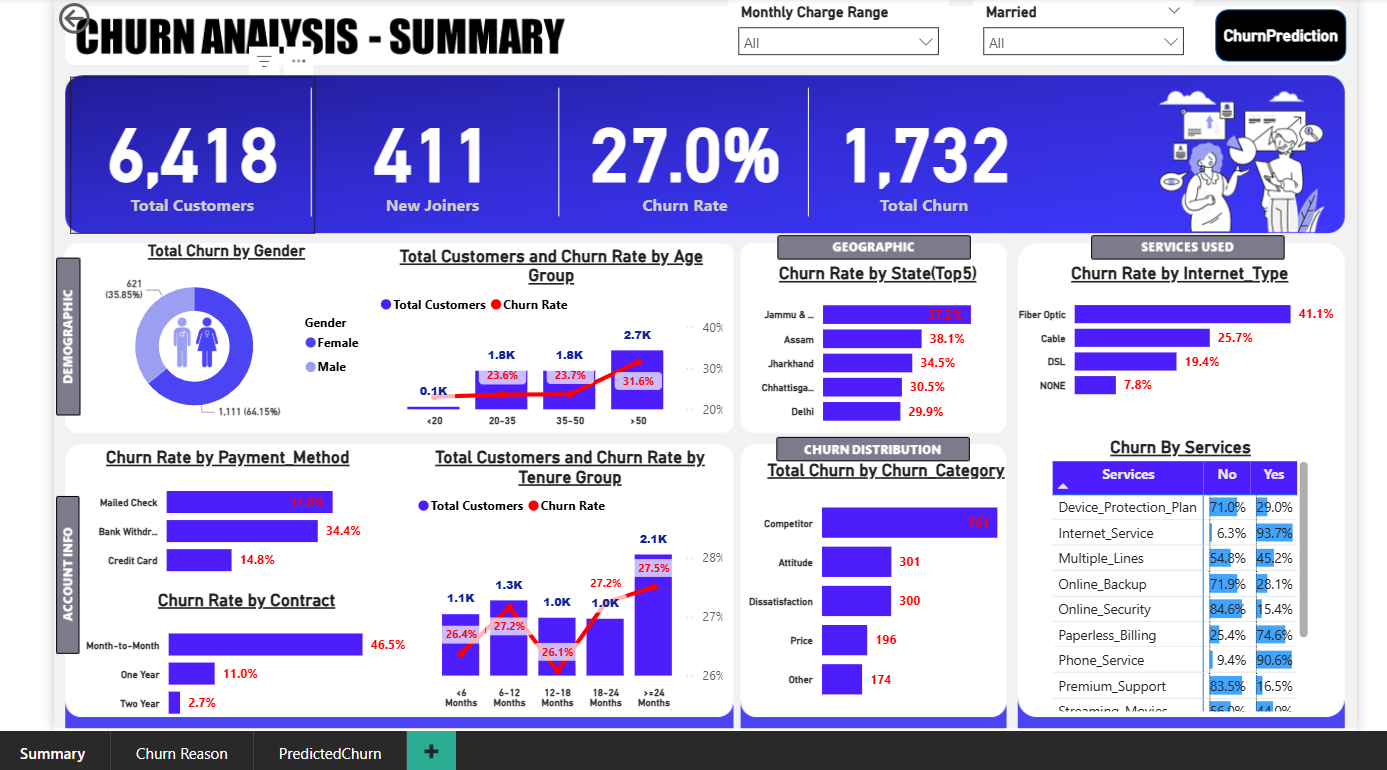

The page's visual inventory and layout, read from the dashboard file:
{"tool":"powerbi","page":{"name":"Summary","canvas":[1280,720],"ordinal":0},"visuals":[{"type":"image","box":[100.2,306,78.2,63.1],"z":0},{"type":"actionButton","box":[0,0,100,40],"z":1000},{"type":"card","fields":{"Values":["TBL_Measures.Total Customers"]},"box":[16.5,76.8,240.1,155.1],"z":2000},{"type":"card","fields":{"Values":["TBL_Measures.Total Churn"]},"box":[741,76.8,226.4,155.1],"z":3000},{"type":"card","fields":{"Values":["TBL_Measures.New Joiners"]},"box":[245.6,76.8,252.5,155.1],"z":4000},{"type":"card","fields":{"Values":["TBL_Measures.Churn Rate"]},"box":[498.1,76.8,242.9,155.1],"z":5000},{"type":"lineStackedColumnComboChart","fields":{"Y":["TBL_Measures.Total Customers"],"Y2":["TBL_Measures.Churn Rate"],"Category":["MappingAgeGroup.Age Group"]},"box":[315.6,242.9,345.8,188],"z":6000},{"type":"clusteredBarChart","fields":{"Category":["prod_Churn.Payment_Method"],"Y":["TBL_Measures.Churn Rate"]},"box":[26.1,440.5,289.5,140],"z":7000},{"type":"clusteredBarChart","fields":{"Category":["prod_Churn.Contract"],"Y":["TBL_Measures.Churn Rate"]},"box":[26.1,580.4,326.6,140],"z":8000},{"type":"lineStackedColumnComboChart","fields":{"Y":["TBL_Measures.Total Customers"],"Y2":["TBL_Measures.Churn Rate"],"Category":["MappingTenureGroup.Tenure Group"]},"box":[352.7,440.5,308.7,264.8],"z":9000},{"type":"clusteredBarChart","title":"Churn Rate by State(Top5)","fields":{"Category":["prod_Churn.State"],"Y":["TBL_Measures.Churn Rate"]},"box":[676.5,260.7,264.8,170.2],"z":10000},{"type":"clusteredBarChart","fields":{"Category":["prod_Churn.Churn_Category"],"Y":["TBL_Measures.Total Churn"]},"box":[676.5,452.8,281.3,252.5],"z":11000},{"type":"clusteredBarChart","fields":{"Category":["prod_Churn.Internet_Type"],"Y":["TBL_Measures.Churn Rate"]},"box":[941.3,260.7,328,144.1],"z":12000},{"type":"pivotTable","title":"Churn By Services","fields":{"Rows":["prod_Services.Services"],"Values":["Sum(prod_Services.Churn Status)"],"Columns":["prod_Services.Status"]},"box":[975.6,430.9,260.7,274.4],"z":13000},{"type":"slicer","fields":{"Values":["prod_Churn.Monthly Charge Range"]},"box":[661.4,0,216.8,63.1],"z":14000},{"type":"slicer","fields":{"Values":["prod_Churn.Married"]},"box":[901.5,0,216.8,63.1],"z":15000},{"type":"donutChart","fields":{"Category":["prod_Churn.Gender"],"Y":["TBL_Measures.Total Churn"]},"box":[24.7,238.8,289.5,188],"z":16000},{"type":"shape","box":[1139.9,11,128.8,51.5],"z":17000}]}

Visuals, with their boxes on the page's 1280x720 design canvas (x1, y1, x2, y2). These are canvas units, not pixel positions in the 1387x770 screenshot, which may show the page scaled, cropped or inside an application window:
image: BBox(100, 306, 178, 369)
actionButton: BBox(0, 0, 100, 40)
card - TBL_Measures.Total Customers: BBox(16, 77, 257, 232)
card - TBL_Measures.Total Churn: BBox(741, 77, 967, 232)
card - TBL_Measures.New Joiners: BBox(246, 77, 498, 232)
card - TBL_Measures.Churn Rate: BBox(498, 77, 741, 232)
lineStackedColumnComboChart - TBL_Measures.Total Customers x TBL_Measures.Churn Rate: BBox(316, 243, 661, 431)
clusteredBarChart - prod_Churn.Payment_Method x TBL_Measures.Churn Rate: BBox(26, 440, 316, 580)
clusteredBarChart - prod_Churn.Contract x TBL_Measures.Churn Rate: BBox(26, 580, 353, 720)
lineStackedColumnComboChart - TBL_Measures.Total Customers x TBL_Measures.Churn Rate: BBox(353, 440, 661, 705)
"Churn Rate by State(Top5)" clusteredBarChart: BBox(676, 261, 941, 431)
clusteredBarChart - prod_Churn.Churn_Category x TBL_Measures.Total Churn: BBox(676, 453, 958, 705)
clusteredBarChart - prod_Churn.Internet_Type x TBL_Measures.Churn Rate: BBox(941, 261, 1269, 405)
"Churn By Services" pivotTable: BBox(976, 431, 1236, 705)
slicer - prod_Churn.Monthly Charge Range: BBox(661, 0, 878, 63)
slicer - prod_Churn.Married: BBox(902, 0, 1118, 63)
donutChart - prod_Churn.Gender x TBL_Measures.Total Churn: BBox(25, 239, 314, 427)
shape: BBox(1140, 11, 1269, 62)
